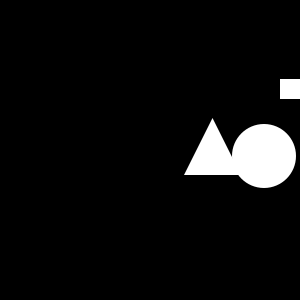circle: (280, 79, 300, 99)
rectangle: (232, 124, 296, 188)
triangle: (184, 118, 241, 175)
